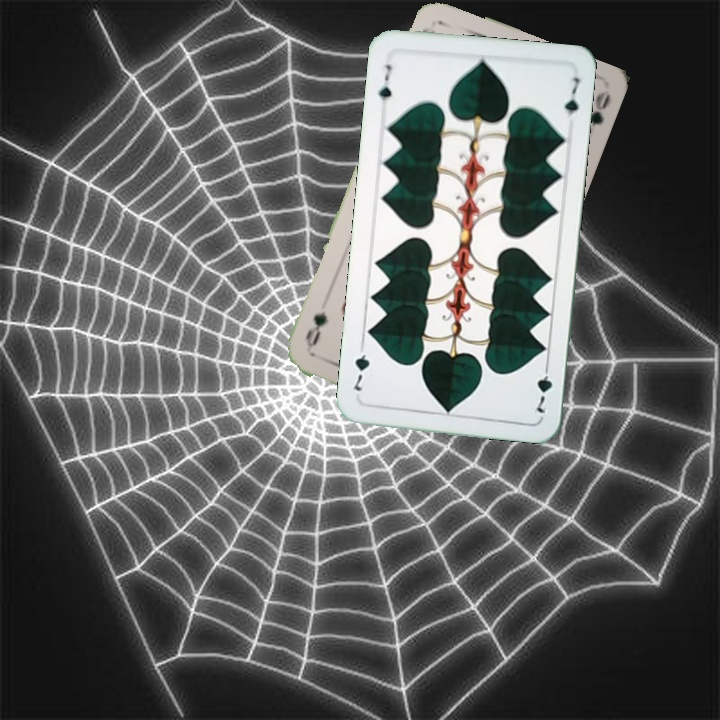G7: (533, 358, 555, 416), (374, 60, 395, 103)
